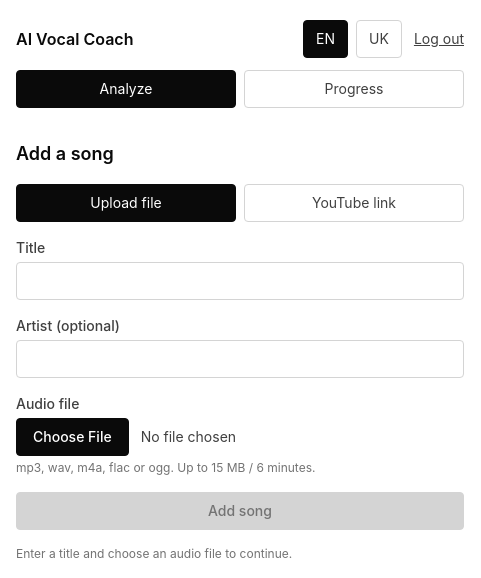
Scenario: AuthenticatedApp › switches every screen to Ukrainian when the language switcher is used
This screenshot has width=481, height=578.
expect the heading "Add a song" is shown: met, box [16,143,114,164]
Click the radio button labelled "UK": (379,39) [356,20,402,58]
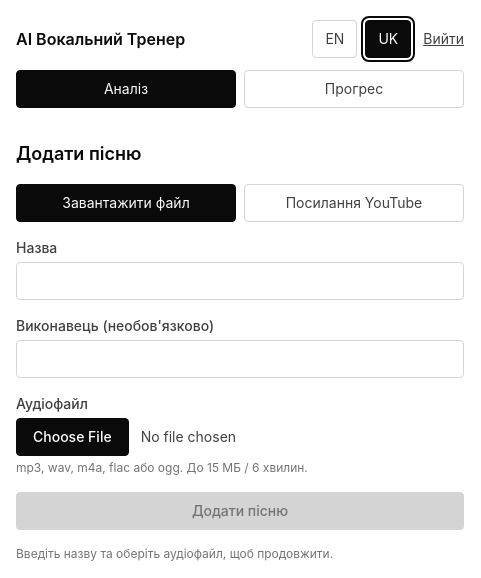
expect the heading "Додати пісню" is shown: met, box [16,143,141,164]
expect the button "Вийти" is shown: met, box [423,29,464,49]
